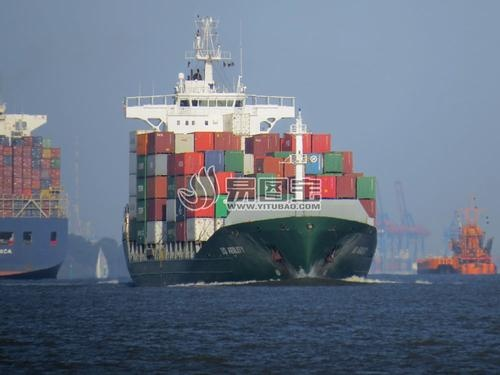Cargoship: (98, 8, 381, 282), (1, 97, 70, 285)
otherboat: (413, 211, 497, 278)
